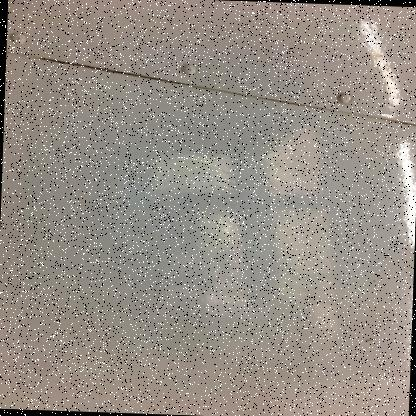Nocrack: (15, 0, 405, 394)
